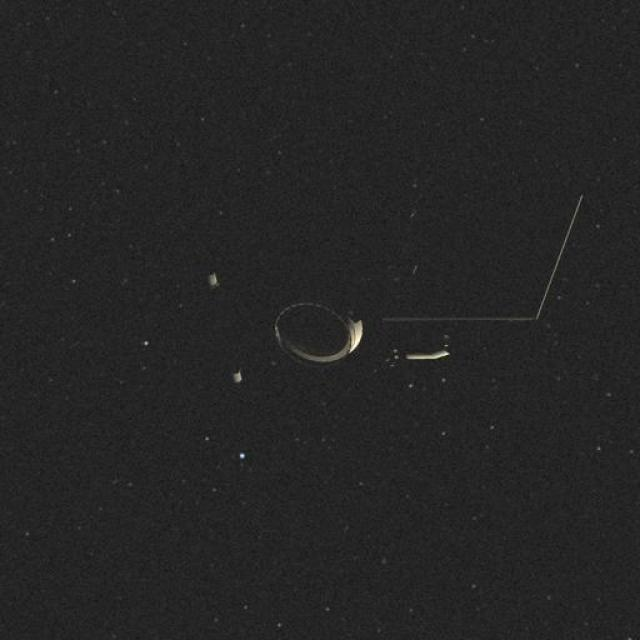proba_3_csc: (220, 149, 596, 398)
